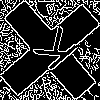K: (25, 25, 81, 80)
